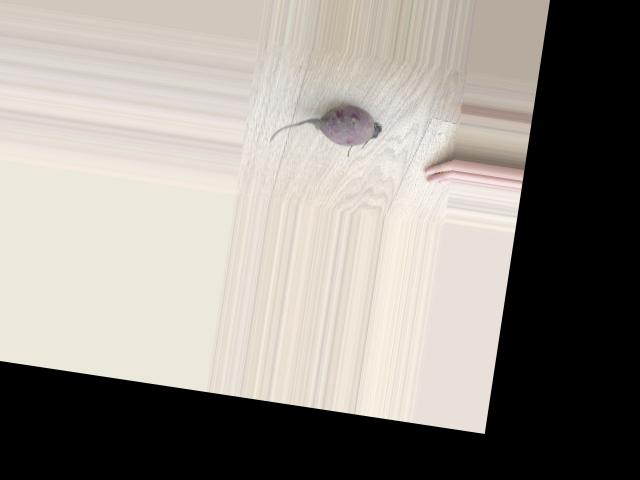beet: (268, 94, 383, 160)
